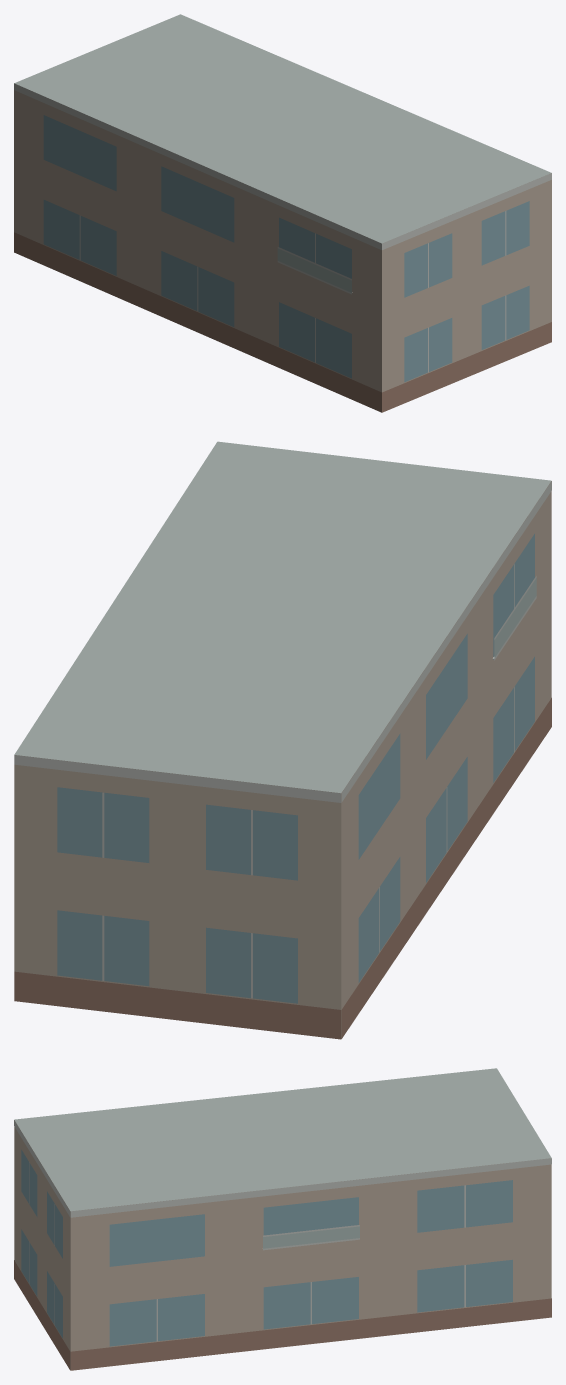
File: survey-upis-32620417.glb
3 views of the same model, one above another, from view 1: azimuth 30°, elevation 25°; view 2: azimuth 150°, elevation 25°; view 3: azimuth 270°, elevation 25° (orthographic). The views are drawn at different scales.
Parts seen in each view (by area): view 1: survey-upis-32620417.tmp; view 2: survey-upis-32620417.tmp; view 3: survey-upis-32620417.tmp.
Boxes of the visible parts, x1,y1,x2,y2 form: survey-upis-32620417.tmp: (14, 14, 551, 412); survey-upis-32620417.tmp: (14, 441, 551, 1039); survey-upis-32620417.tmp: (14, 1068, 551, 1370).
Size of the model in its own units: 11.77 by 6.1 by 18.67.
